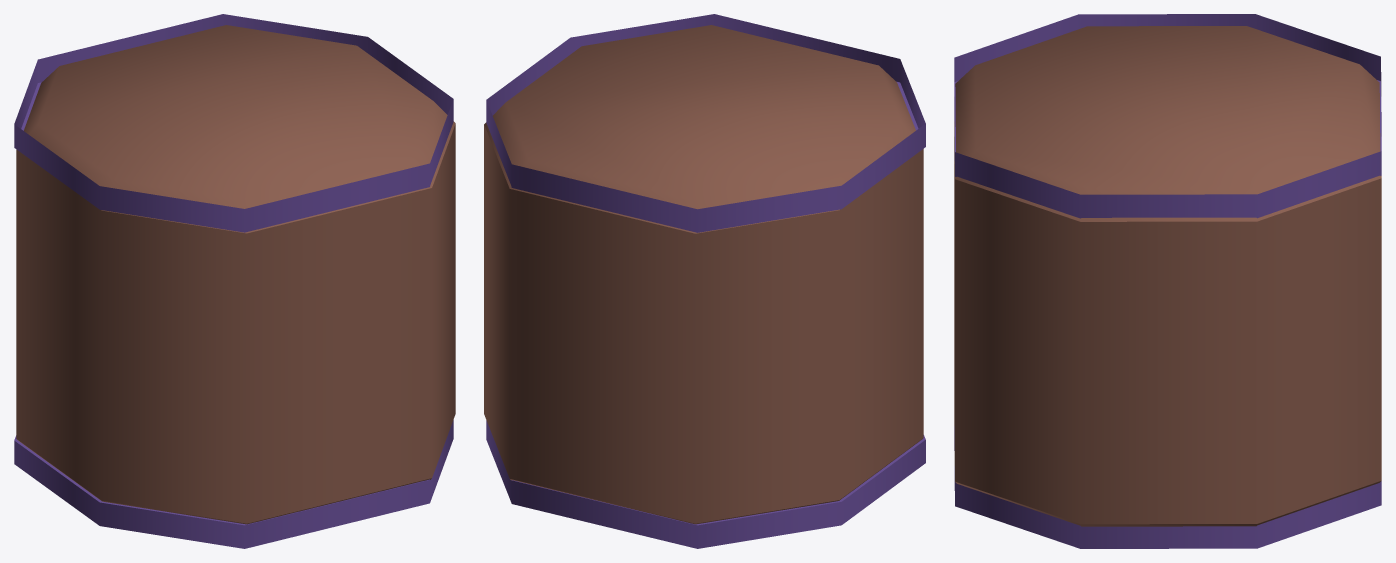
Rendered from medio.fbx.
The picture shows the model from 3 angles, left to right: view 1: azimuth 30°, elevation 25°; view 2: azimuth 150°, elevation 25°; view 3: azimuth 270°, elevation 25°; orthographic projection. The views are drawn at different scales.
Parts seen in each view (by area): view 1: Cuerpo, Circle.001, Circle.007; view 2: Cuerpo, Circle.001, Circle.007; view 3: Cuerpo, Circle.001, Circle.007.
Boxes of the visible parts, left/top/right/bottom form: Cuerpo: left=16, top=25, right=455, bottom=524; Circle.001: left=14, top=14, right=453, bottom=232; Circle.007: left=14, top=420, right=453, bottom=548; Cuerpo: left=484, top=25, right=923, bottom=524; Circle.001: left=486, top=14, right=925, bottom=232; Circle.007: left=486, top=420, right=925, bottom=548; Cuerpo: left=954, top=26, right=1381, bottom=526; Circle.001: left=954, top=14, right=1381, bottom=218; Circle.007: left=954, top=426, right=1381, bottom=548.
Size of the model in its own units: 261 by 239 by 259.
